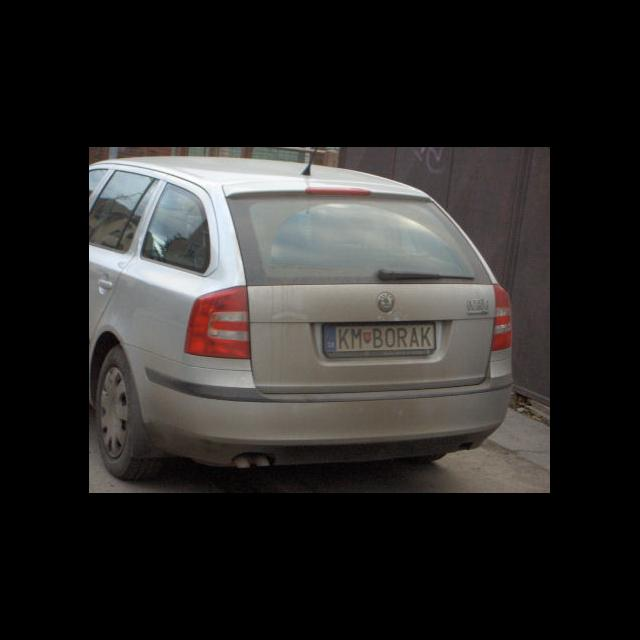Plate: (322, 320, 438, 356)
